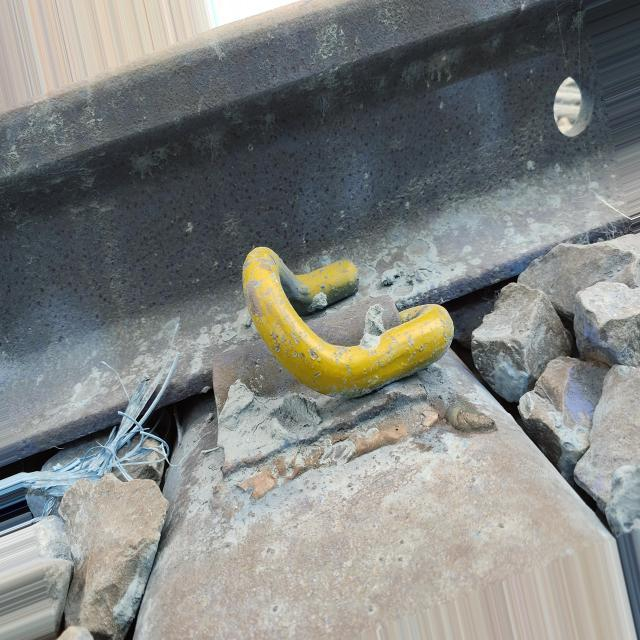Good Fasteners: (213, 247, 454, 464)
